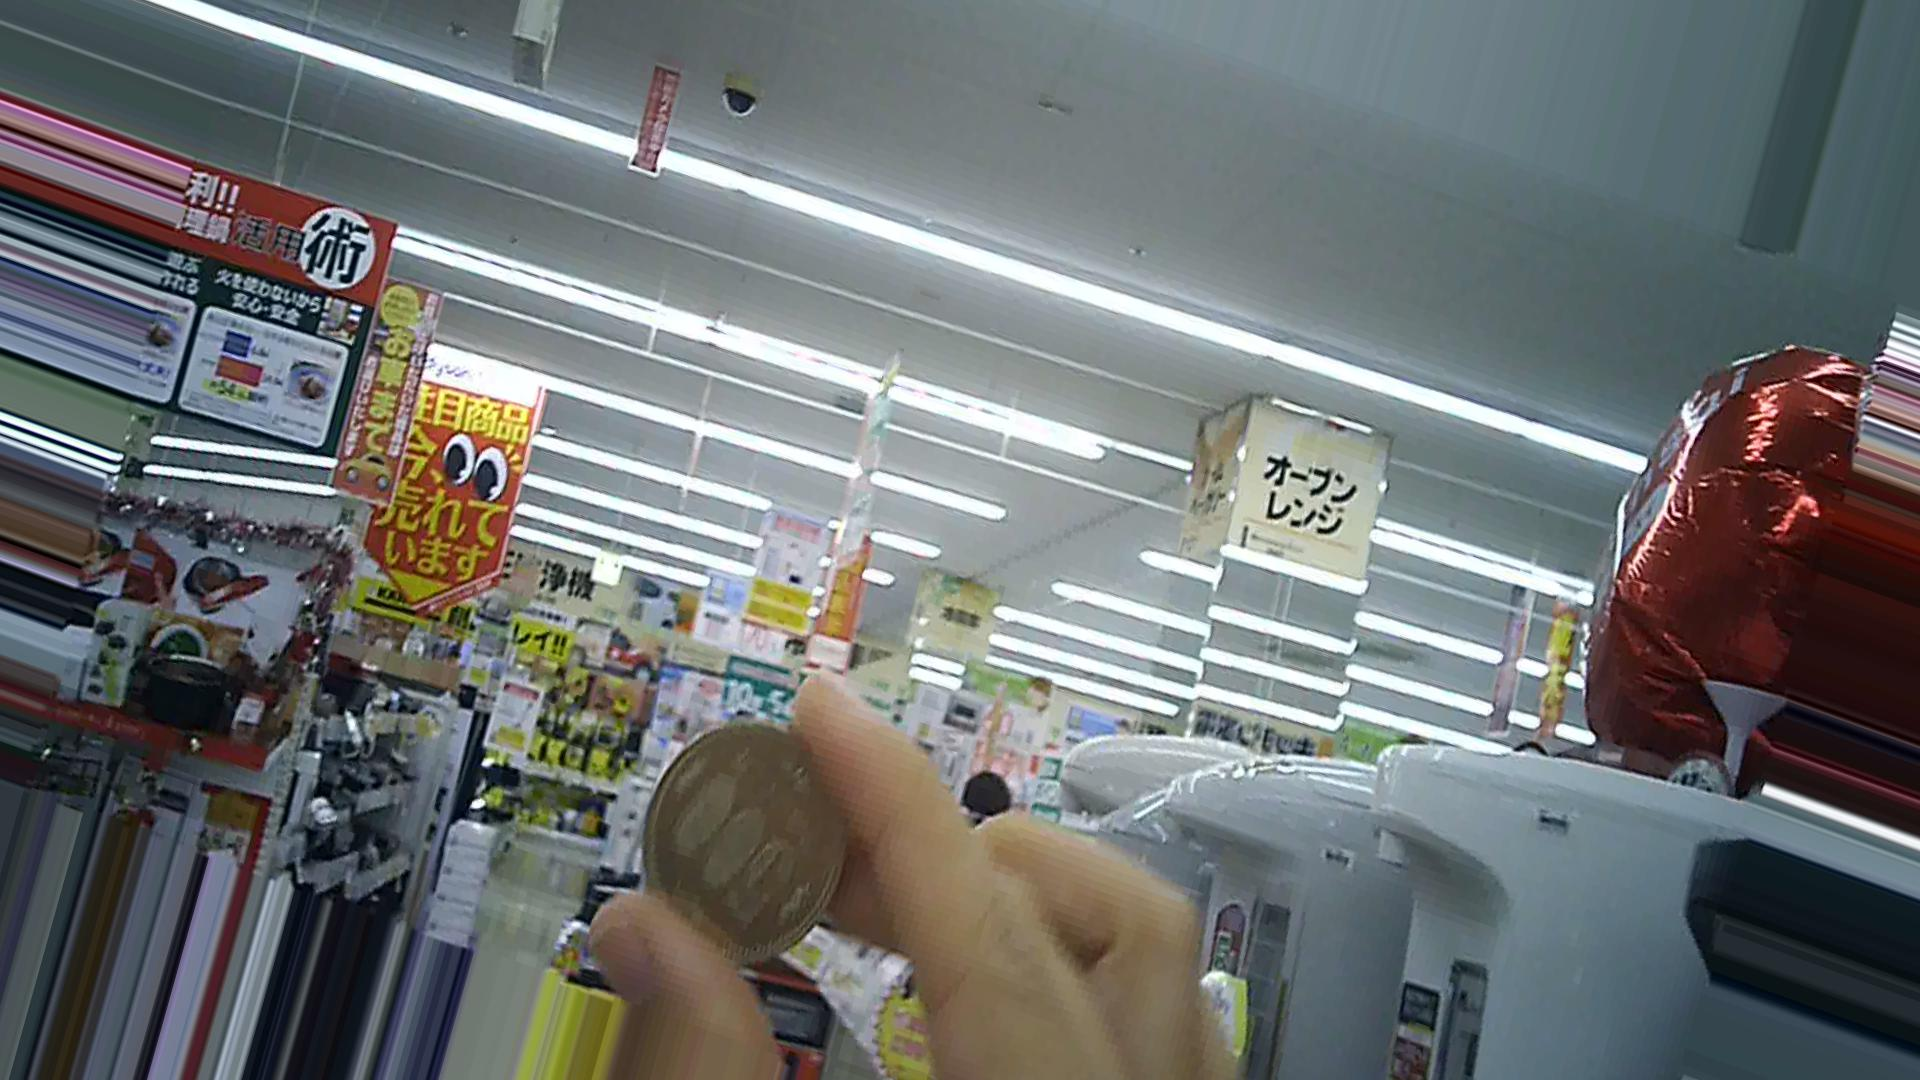500 Yen: (636, 712, 861, 982)
